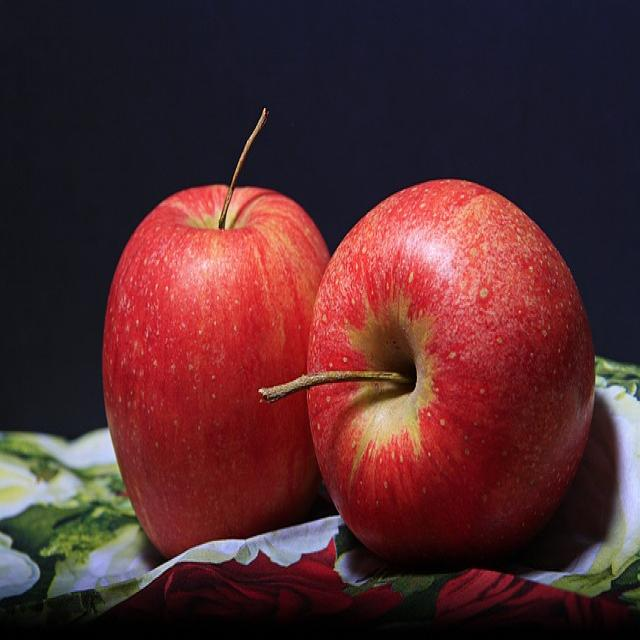apple: (314, 175, 602, 605), (98, 176, 335, 589)
